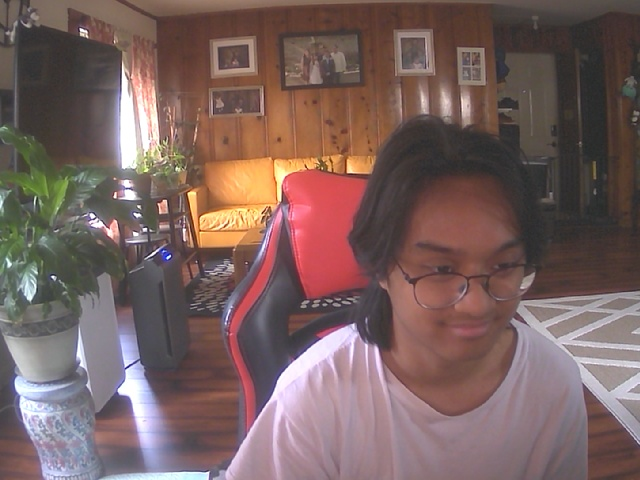happy: (369, 121, 546, 367)
